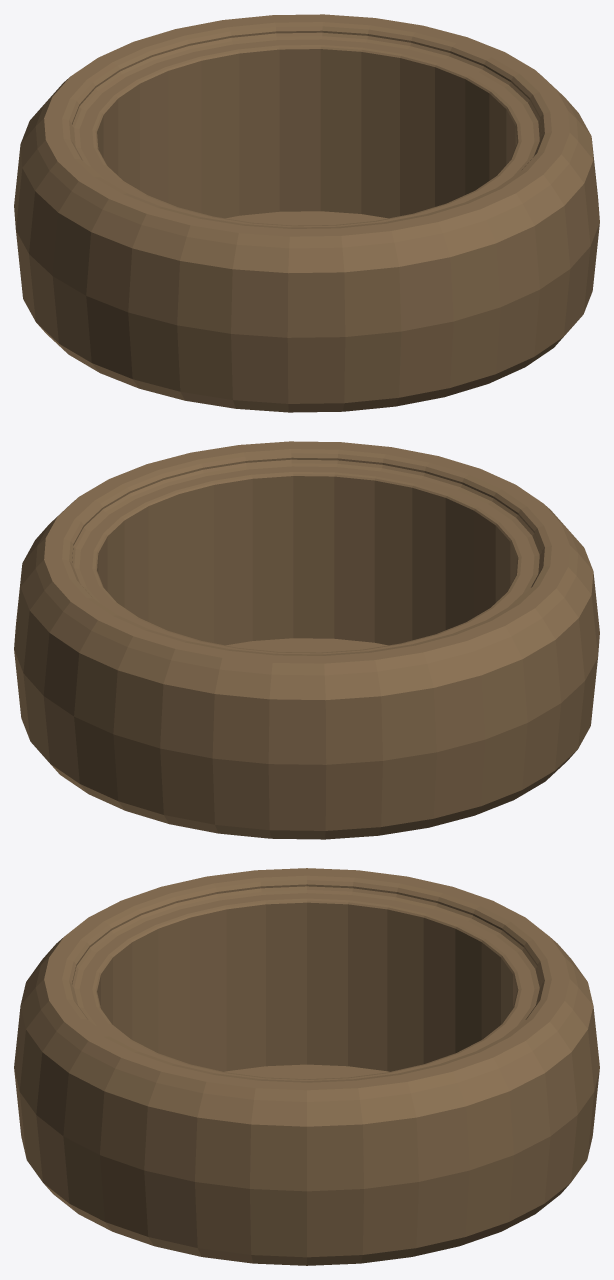
Rendered from Basket02.fbx.
3 views of the same model, one above another, from view 1: azimuth 30°, elevation 25°; view 2: azimuth 150°, elevation 25°; view 3: azimuth 270°, elevation 25° (orthographic).
Parts seen in each view (by area): view 1: Basket02; view 2: Basket02; view 3: Basket02.
Part boxes in pixels (x1,y1,x2,y2): Basket02: [14, 14, 599, 412]; Basket02: [14, 441, 599, 839]; Basket02: [14, 868, 599, 1265].
Bounding box in the file's own units: 0.5558 × 0.1842 × 0.5558.
